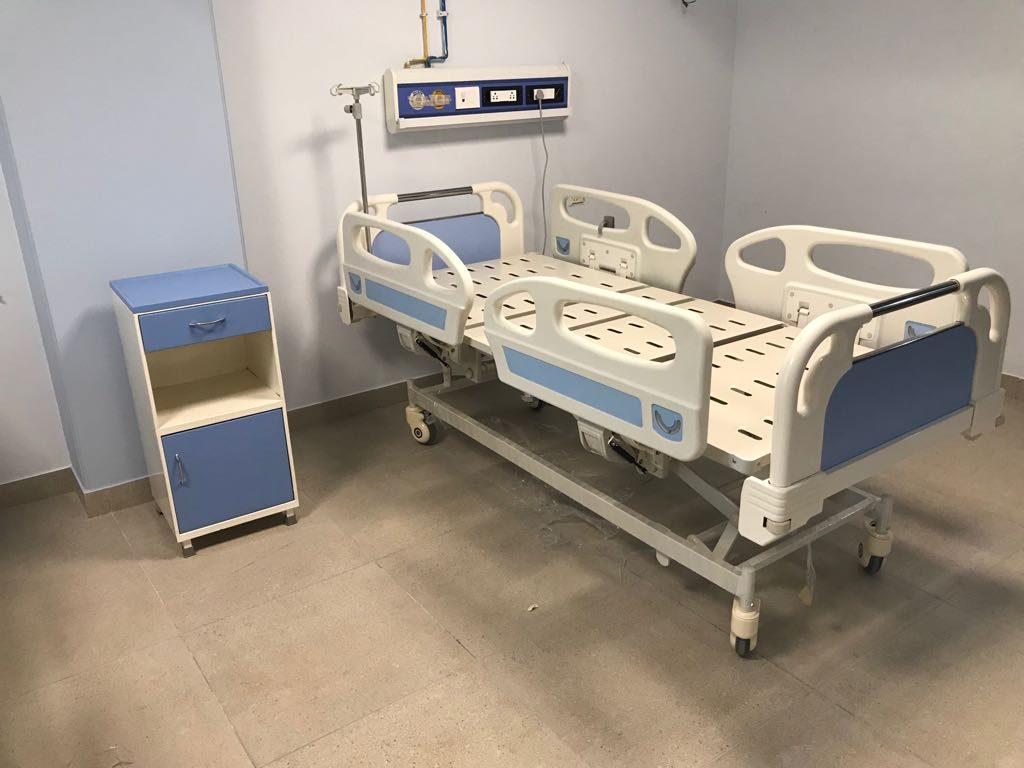trolley_bed: (328, 79, 1013, 662)
